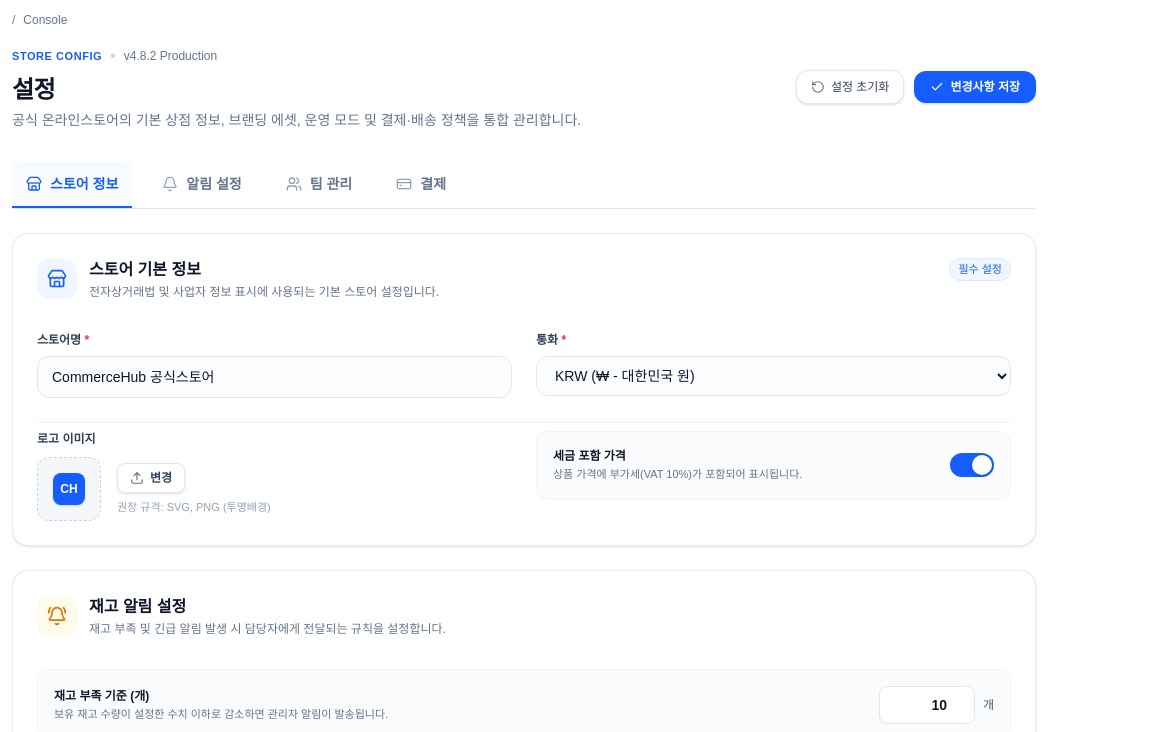
Test: SettingsView Component › renders team management tab when team tab is selected
The width and height of the screenshot is (1164, 732).
Click the button "팀 관리" at (319, 185), box [272,162,366,208]
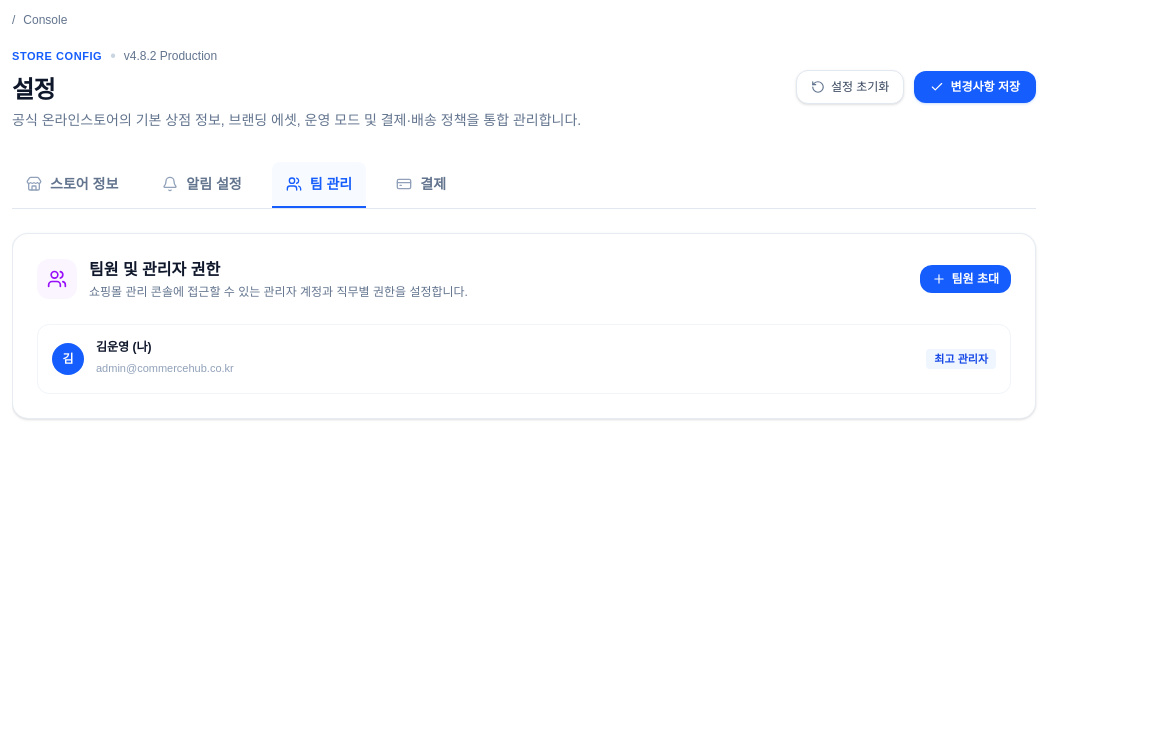
Expected: the heading "팀원 및 관리자 권한" is shown, [89,261,220,278]
Expected: the text "팀원 초대" is shown, [952,271,999,287]
